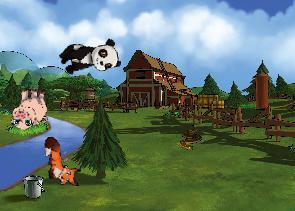fox: (42, 134, 82, 189)
panda: (57, 37, 121, 78)
pig: (9, 86, 49, 130)
